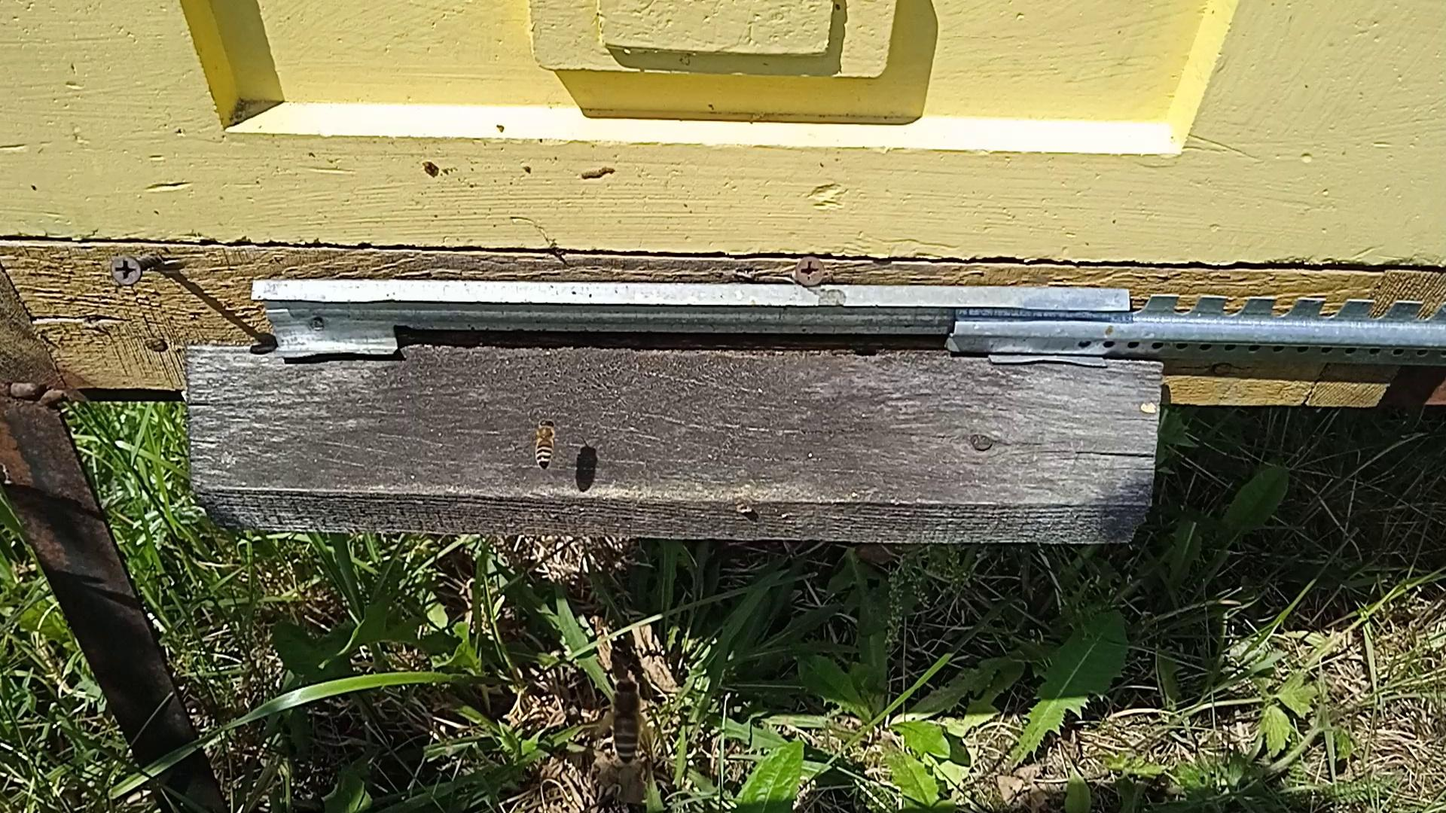worker-bee: (610, 679, 645, 764), (533, 417, 557, 469)
